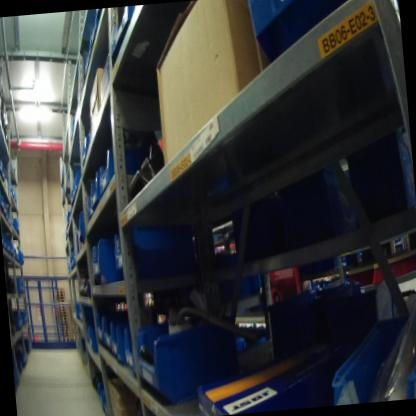pallet: (56, 292, 65, 297), (57, 298, 65, 303), (57, 301, 65, 306), (59, 315, 67, 320), (55, 286, 64, 290), (61, 326, 70, 330), (60, 318, 67, 323), (57, 295, 65, 299), (58, 305, 66, 309), (58, 308, 66, 312), (60, 321, 68, 325), (59, 311, 66, 315), (62, 328, 69, 332), (62, 330, 69, 334), (63, 338, 70, 342), (56, 290, 64, 293), (60, 324, 68, 327), (59, 314, 66, 317), (63, 334, 70, 337), (63, 336, 70, 339)
